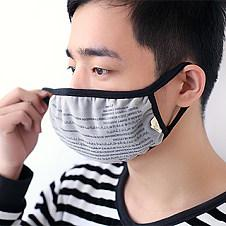WRONG: (47, 36, 167, 163)
